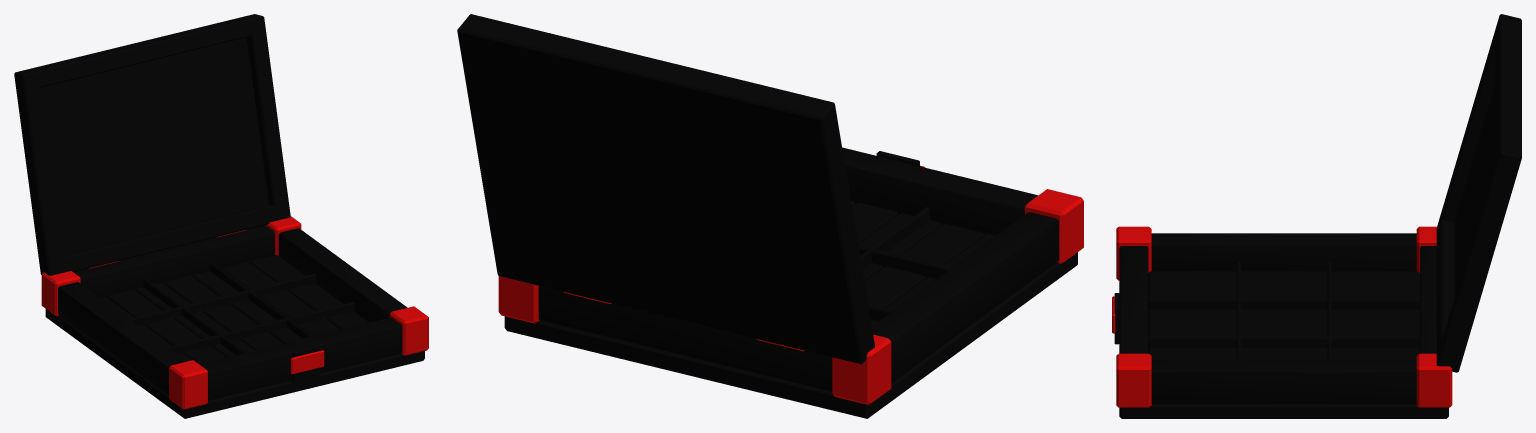
Rendered from pack.glb.
3 views of the same model, side by side, from view 1: azimuth 30°, elevation 25°; view 2: azimuth 150°, elevation 25°; view 3: azimuth 270°, elevation 25° (orthographic). The views are drawn at different scales.
Parts seen in each view (by area): view 1: pack; view 2: pack; view 3: pack.
Boxes of the visible parts, x1,y1,x2,y2 form: pack: (14, 14, 428, 418); pack: (457, 14, 1083, 418); pack: (1112, 14, 1521, 418).
Size of the model in its own units: 0.408 by 0.3584 by 0.4977.
